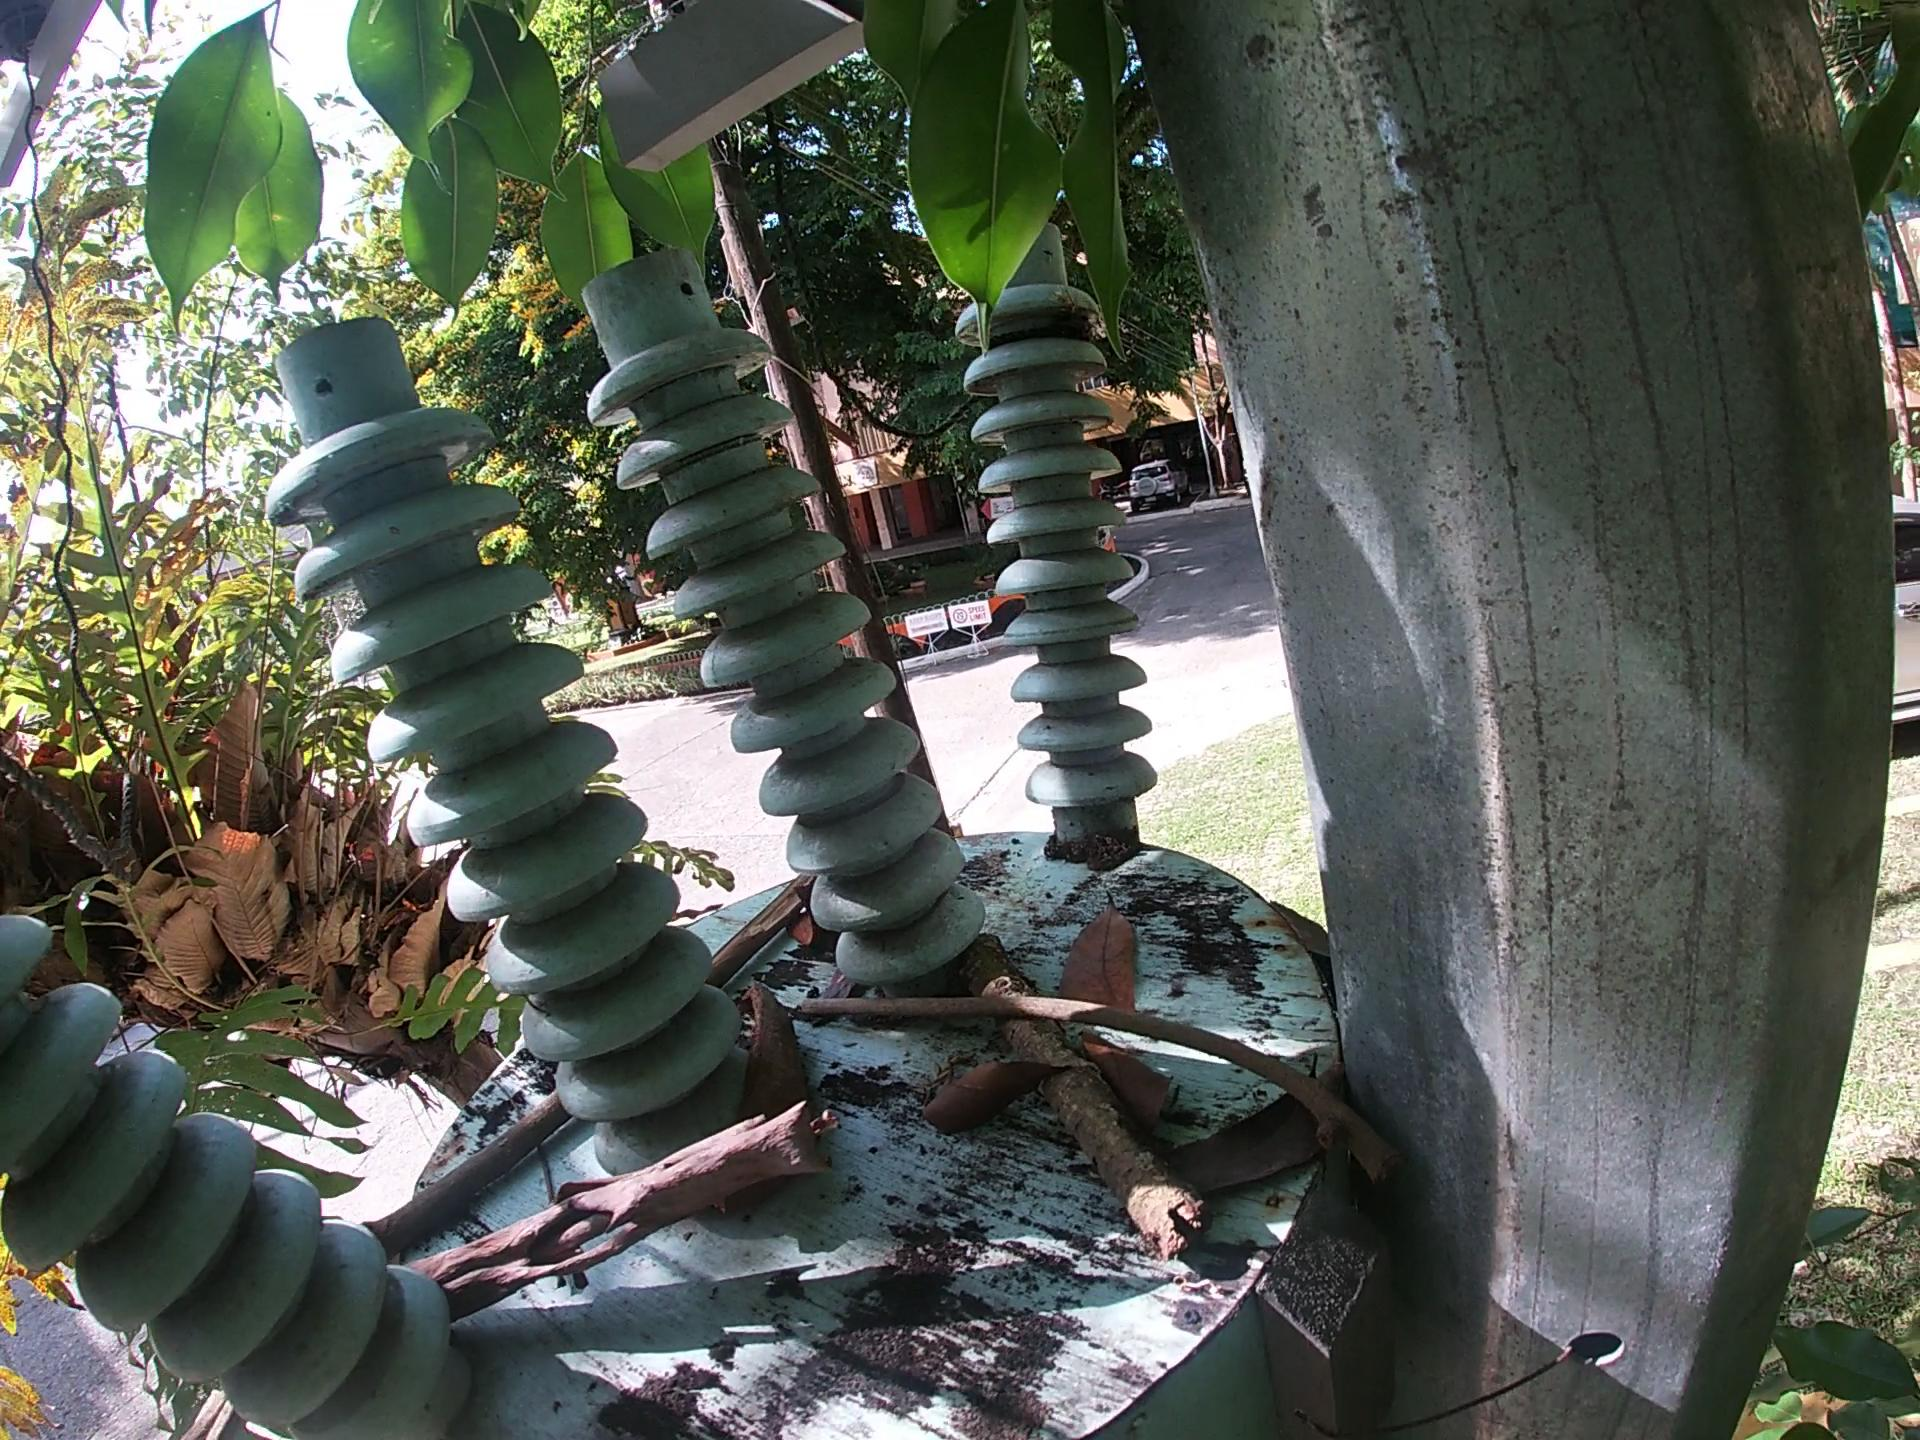leaf: (1160, 1048, 1333, 1199), (918, 1057, 1079, 1144), (1076, 1029, 1175, 1144), (1055, 891, 1143, 1013)
mahogany fruit: (721, 979, 815, 1216), (785, 880, 838, 954)
tree branch: (795, 979, 1417, 1192), (396, 1101, 847, 1333), (951, 923, 1219, 1265), (355, 1094, 574, 1266), (706, 867, 825, 997)
